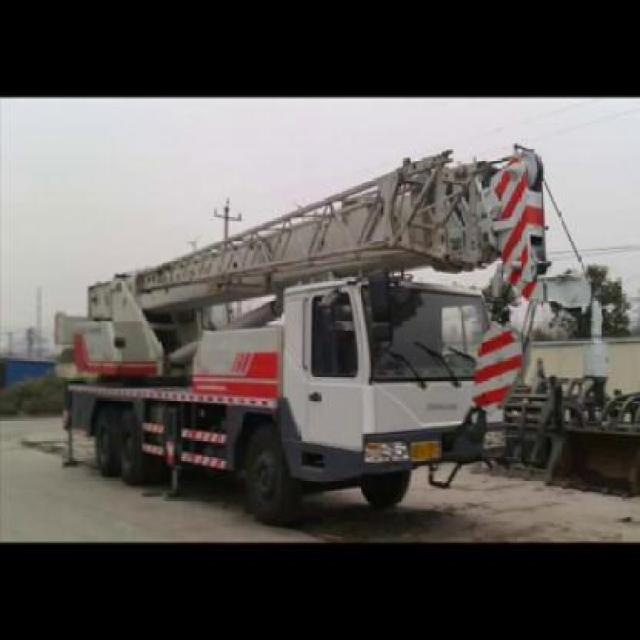Mobile Crane: (57, 153, 546, 512)
